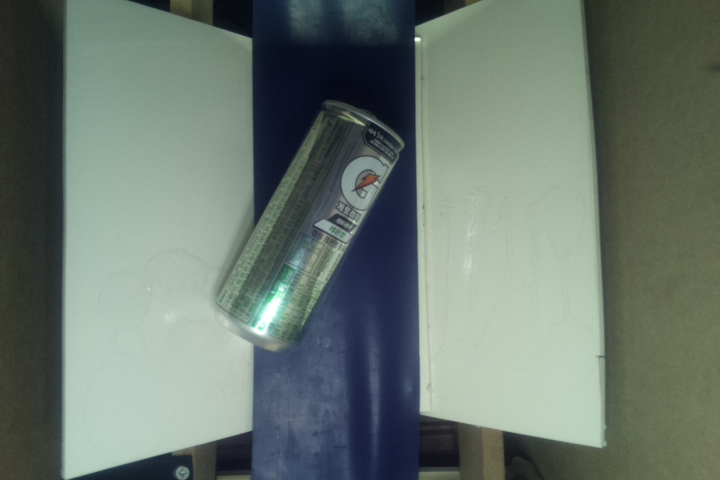can: (211, 96, 405, 352)
